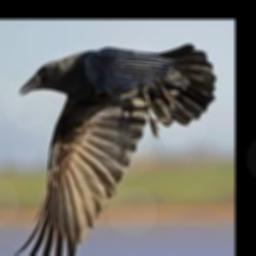Crow: (12, 45, 216, 256)
